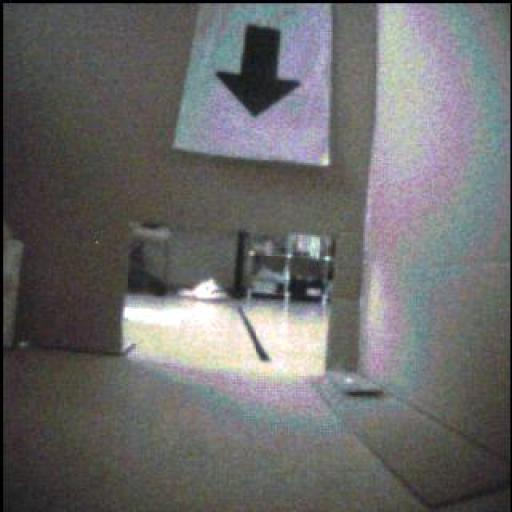arrow: (217, 27, 300, 118)
